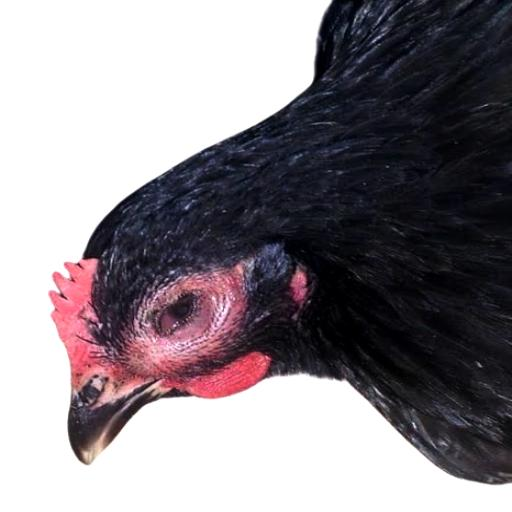disease: (109, 246, 266, 368)
